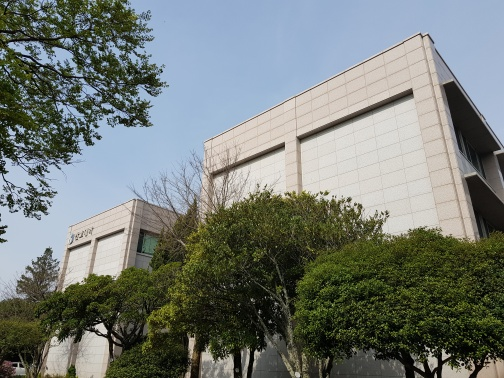College of Nursing: (194, 78, 483, 352), (48, 195, 143, 348)
